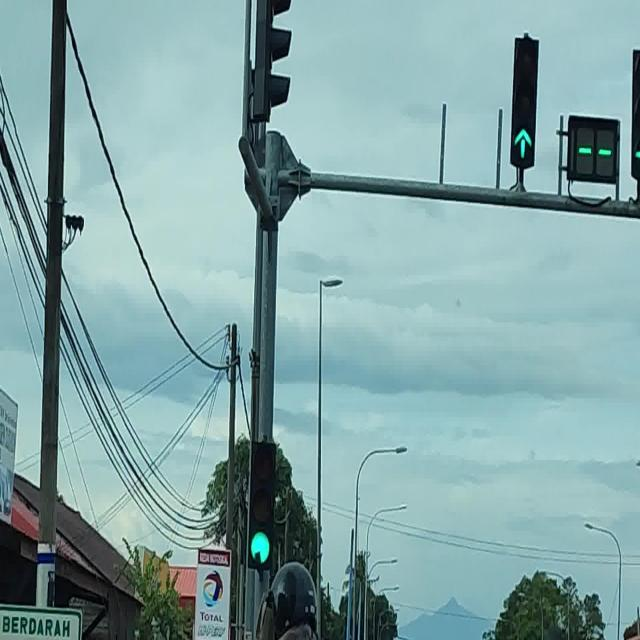traffic light: (238, 132, 312, 230), (248, 0, 294, 122), (510, 34, 539, 170), (248, 442, 277, 571), (631, 48, 640, 192)
